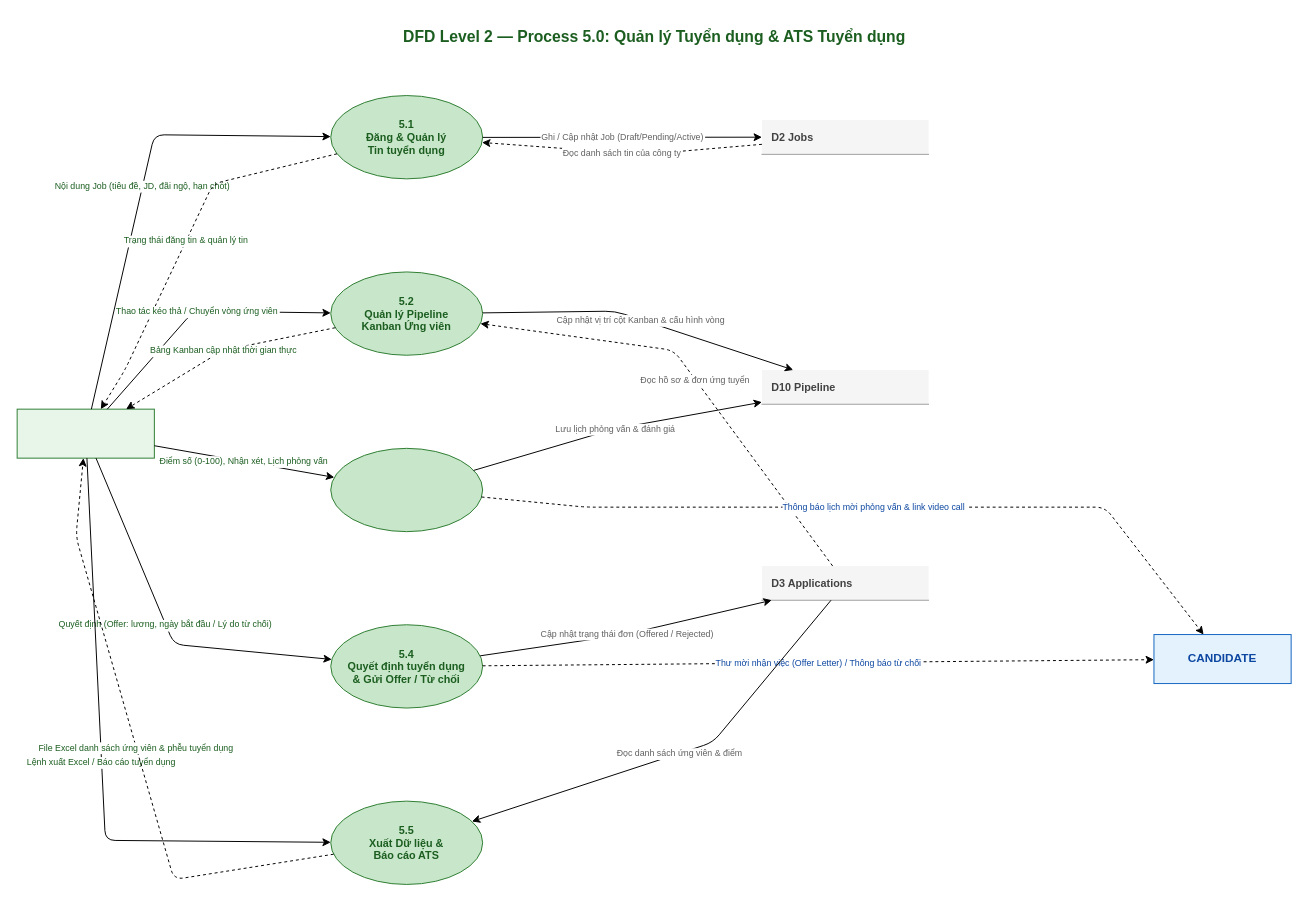
Some shapes in this 1308 by 905 pixel diagram are drawn without their labels. The centre of each missing label's shape, as x and y in pixels:
5.3 Đánh giá & Xếp Lịch phỏng vấn: the point at 406,489
EMPLOYER: the point at 85,433
